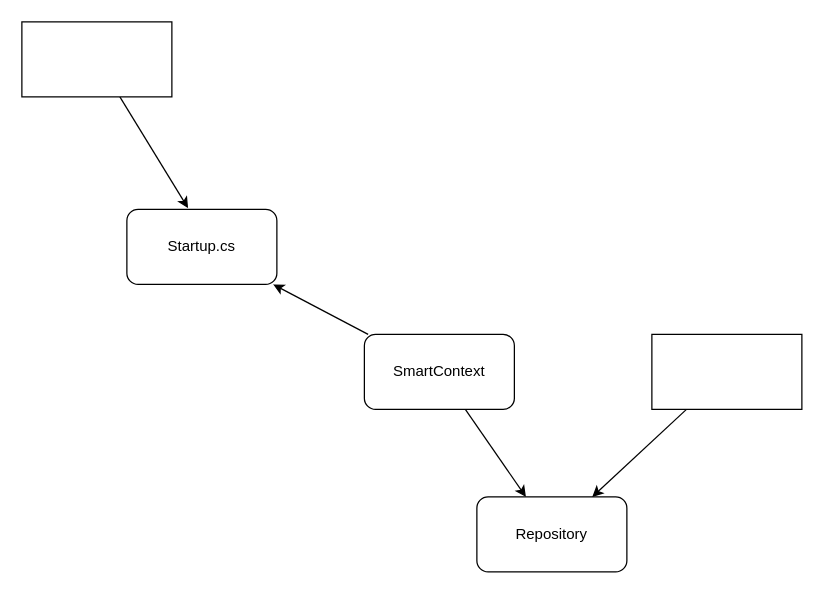
This 824x594 diagram has some shape labels left out. The centre of each missing label's shape, as x and y in pixels:
"appsettings.json" goes at pixel 96 59.
"IRepository" goes at pixel 726 371.
